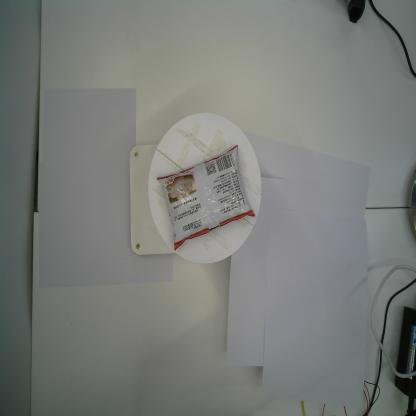Seasoner: (158, 145, 256, 251)
